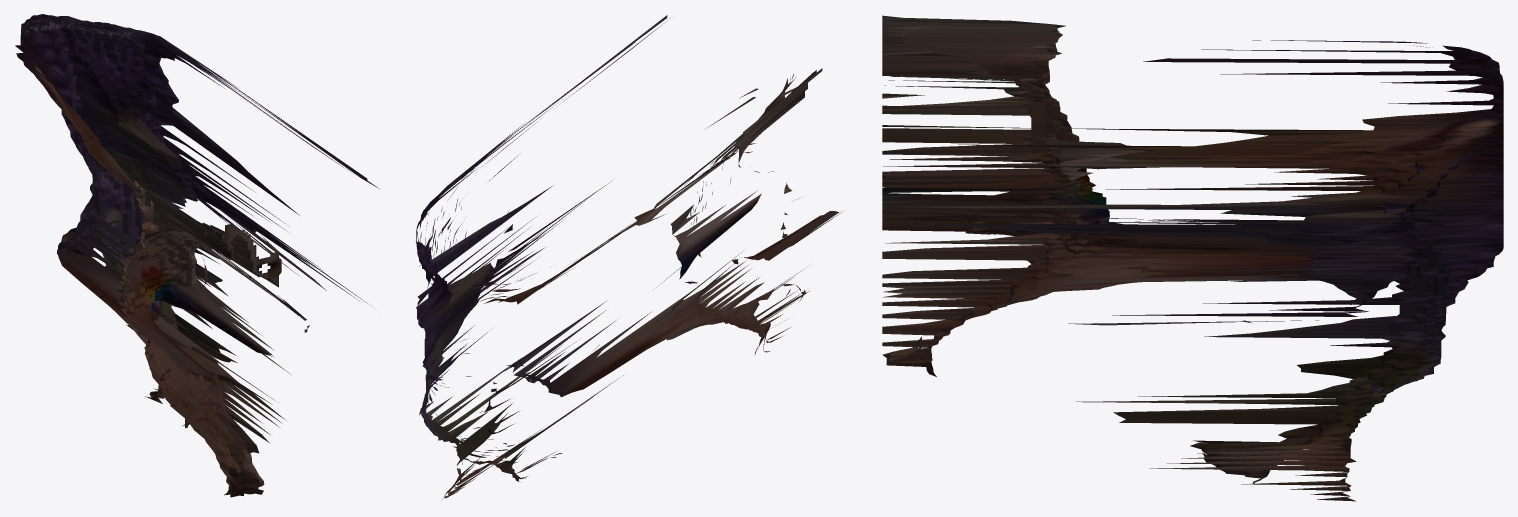
Rendered from frame_00282.glb.
3 renders of one model, left to right at view 1: azimuth 30°, elevation 25°; view 2: azimuth 150°, elevation 25°; view 3: azimuth 270°, elevation 25°, orthographic. The views are drawn at different scales.
Parts seen in each view (by area): view 1: geometry_0; view 2: geometry_0; view 3: geometry_0.
Part boxes in pixels (box(x1,y1,x2,y2)): geometry_0: box(15, 14, 378, 497); geometry_0: box(415, 15, 843, 499); geometry_0: box(882, 15, 1503, 501).
Bounding box in the file's own units: 0.0812 × 0.1154 × 0.16.
Materials: 1 (1 with a texture image).
